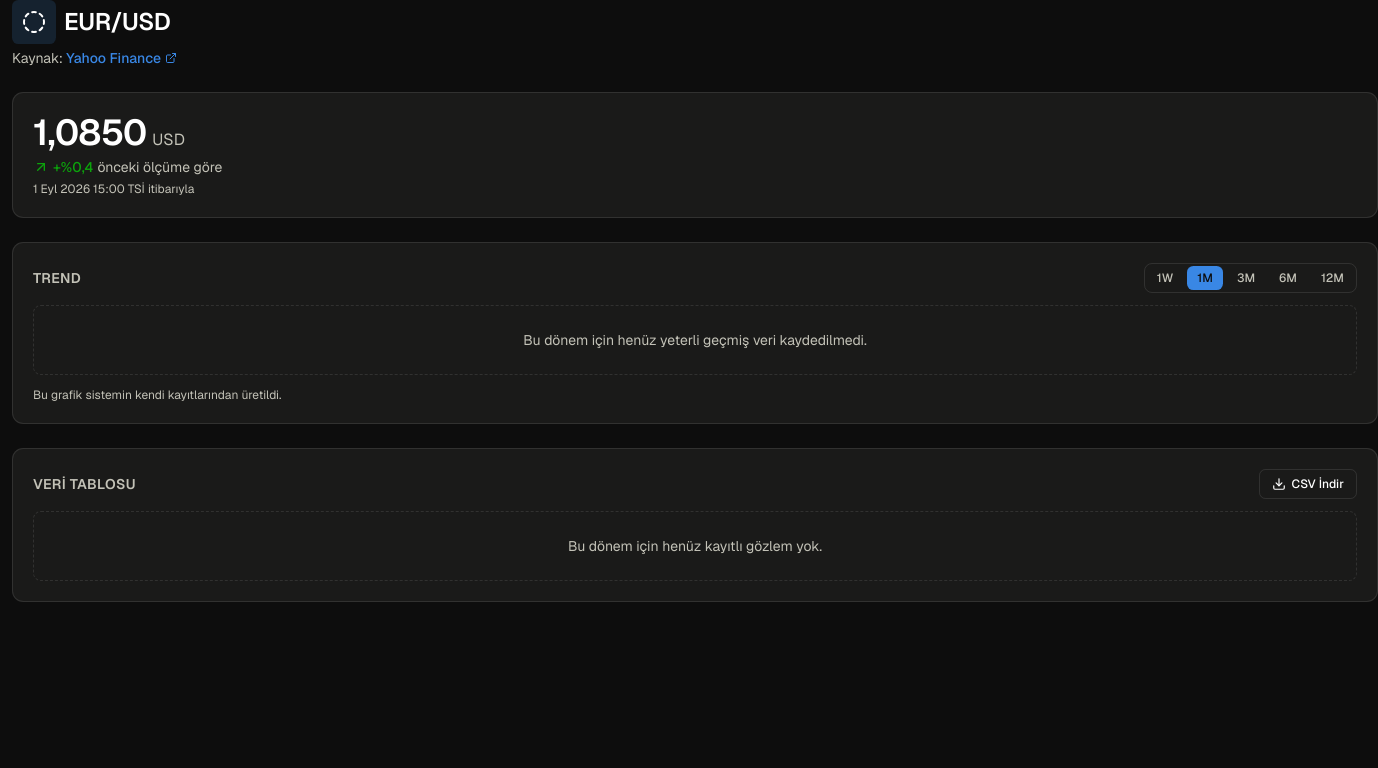
Test case: KpiDetailClient › keeps the loaded page standing when a period switch fails, and demotes the error to a banner
This screenshot has width=1378, height=768.
Expected: the text "1,0850" is shown, [33, 113, 146, 153]
Click the button "12M" at (1332, 278), box [1311, 266, 1354, 290]
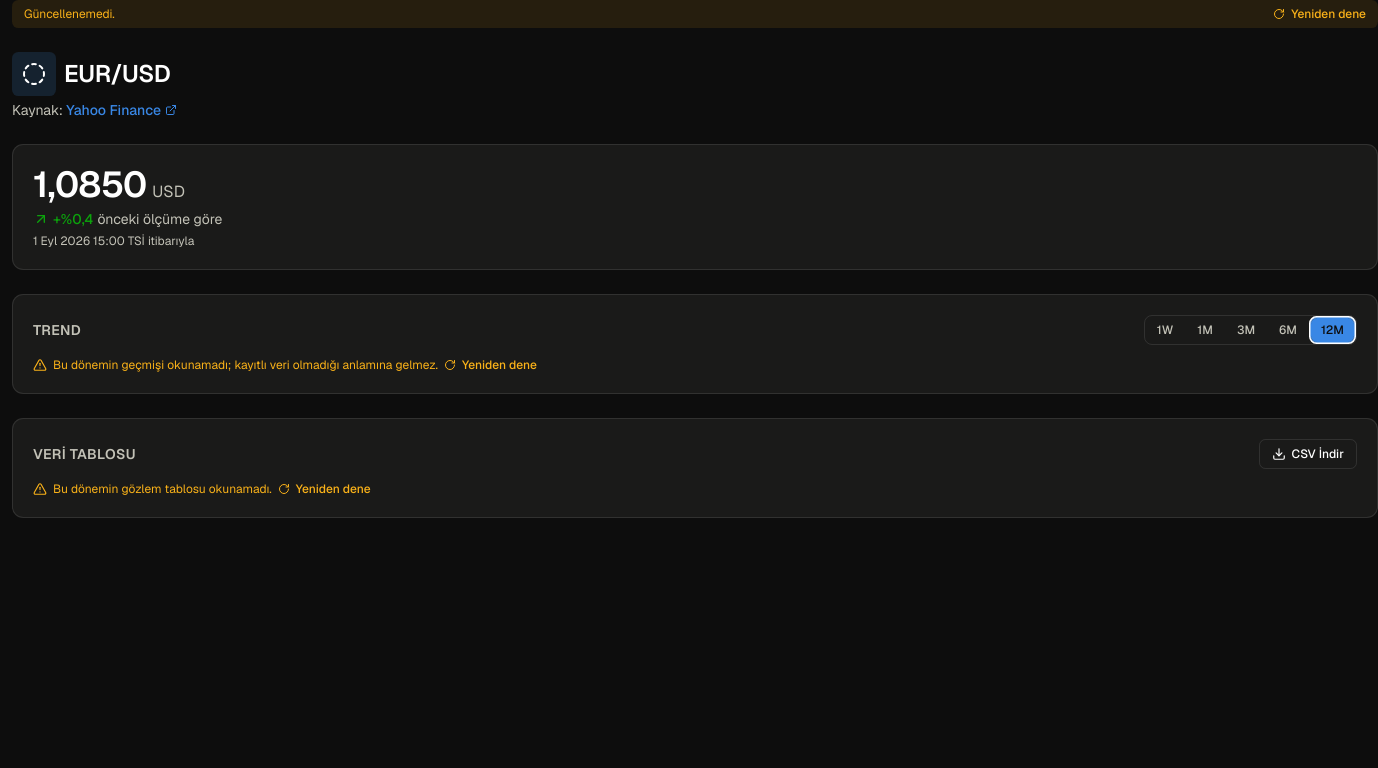
Now the text "Güncellenemedi." is shown, box [24, 6, 115, 22]
Now the text "Bu dönemin geçmişi okunamadı" is shown, box [53, 357, 438, 373]
Now the text "Bu dönem için henüz yeterli geçmiş veri kaydedilmedi." is gone
